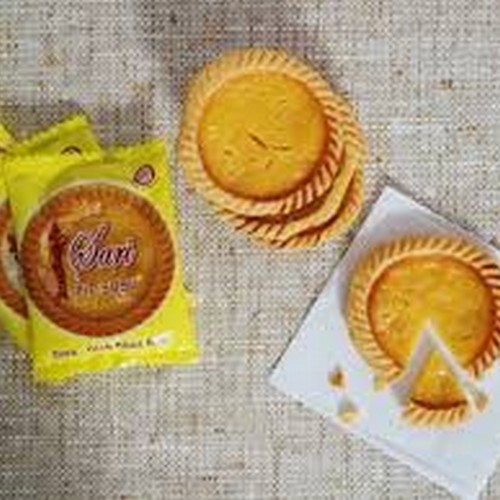pie susu: (174, 64, 357, 246), (344, 234, 500, 405)
